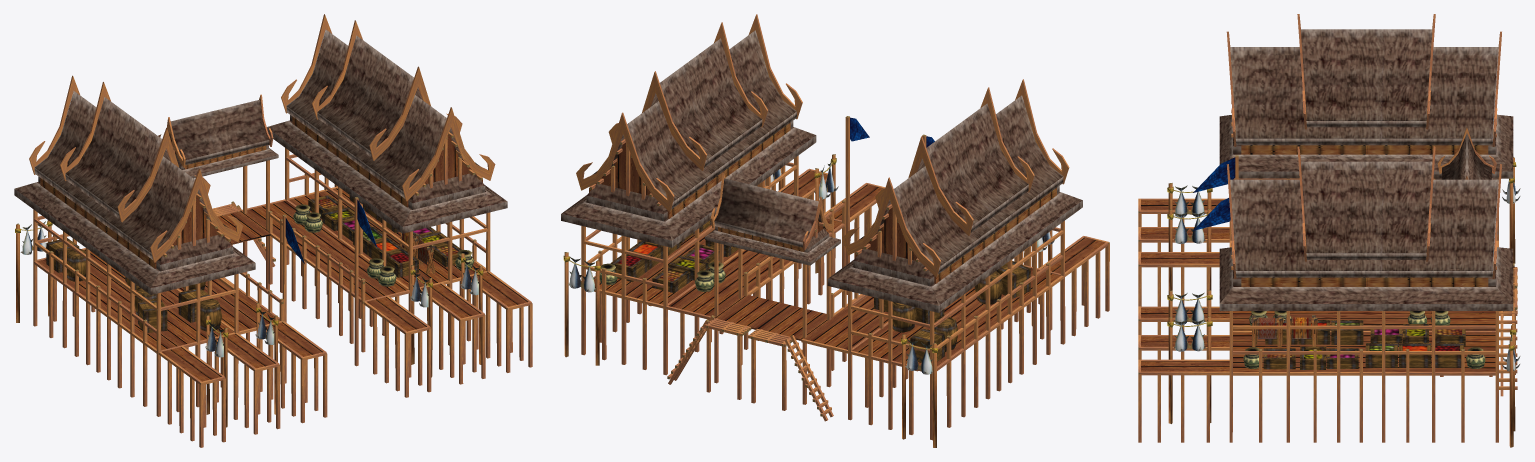
Rendered from dock.dae.
The picture shows the model from 3 angles, left to right: view 1: azimuth 30°, elevation 25°; view 2: azimuth 150°, elevation 25°; view 3: azimuth 270°, elevation 25°; orthographic projection. The views are drawn at different scales.
Parts seen in each view (by area): view 1: dock; view 2: dock; view 3: dock.
Boxes of the visible parts, x1,y1,x2,y2 form: dock: [14, 14, 532, 447]; dock: [561, 14, 1109, 447]; dock: [1138, 14, 1520, 447].
Size of the model in its own units: 29.57 by 25.48 by 20.35.
